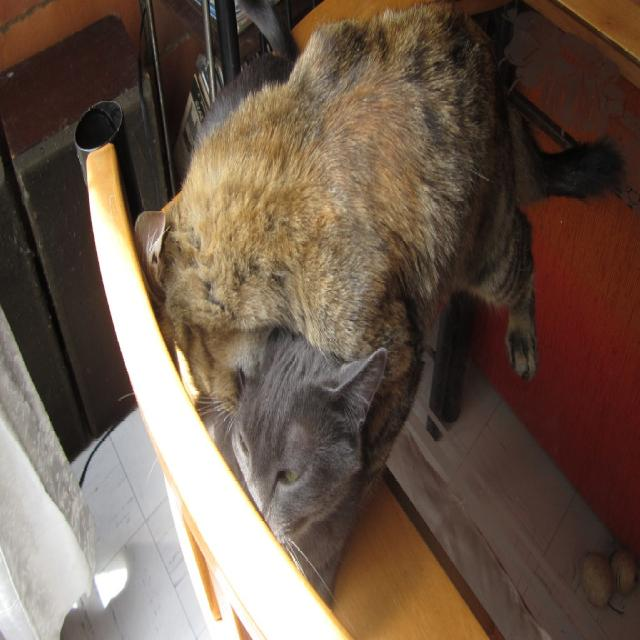Cat: (134, 0, 626, 411), (114, 0, 424, 612)
